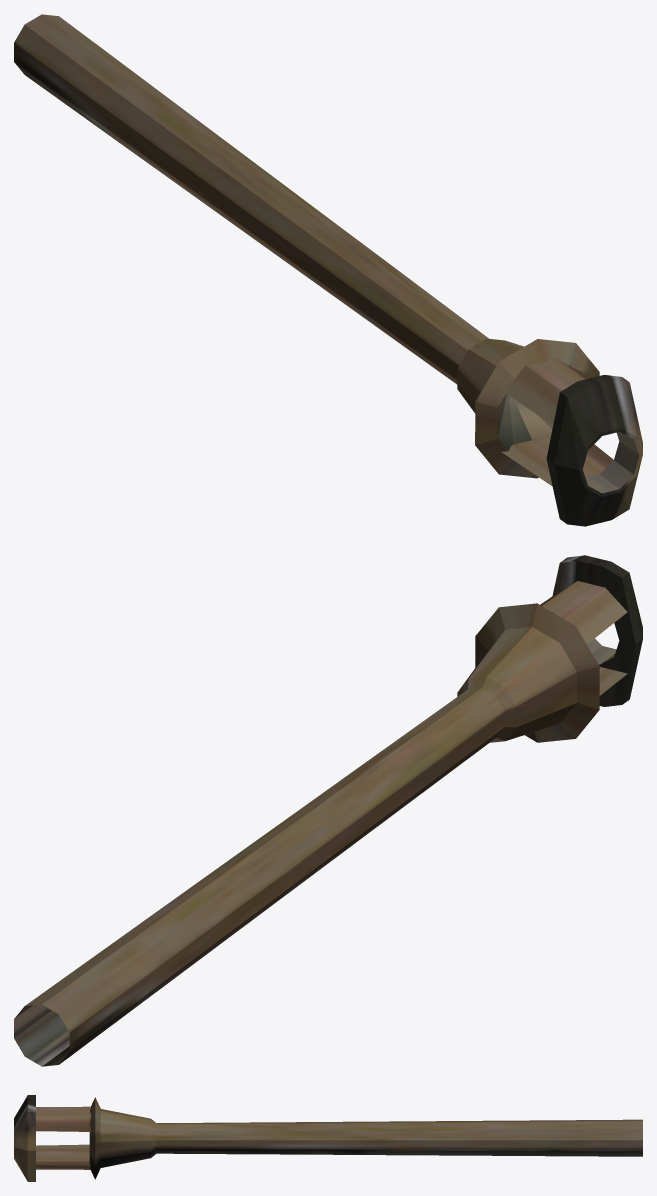
File: pz4_turret_m2.obj
The picture shows the model from 3 angles, top to bottom: view 1: azimuth 30°, elevation 25°; view 2: azimuth 150°, elevation 25°; view 3: azimuth 270°, elevation 25°; orthographic projection. The views are drawn at different scales.
Parts seen in each view (by area): view 1: pz4_turret_m2; view 2: pz4_turret_m2; view 3: pz4_turret_m2.
Part boxes in pixels (box(x1,y1,x2,y2)): pz4_turret_m2: box(14, 14, 642, 526); pz4_turret_m2: box(14, 555, 642, 1066); pz4_turret_m2: box(14, 1095, 642, 1181).
Size of the model in its own units: 0.2778 by 0.298 by 2.2.
Materials: 1 (1 with a texture image).
